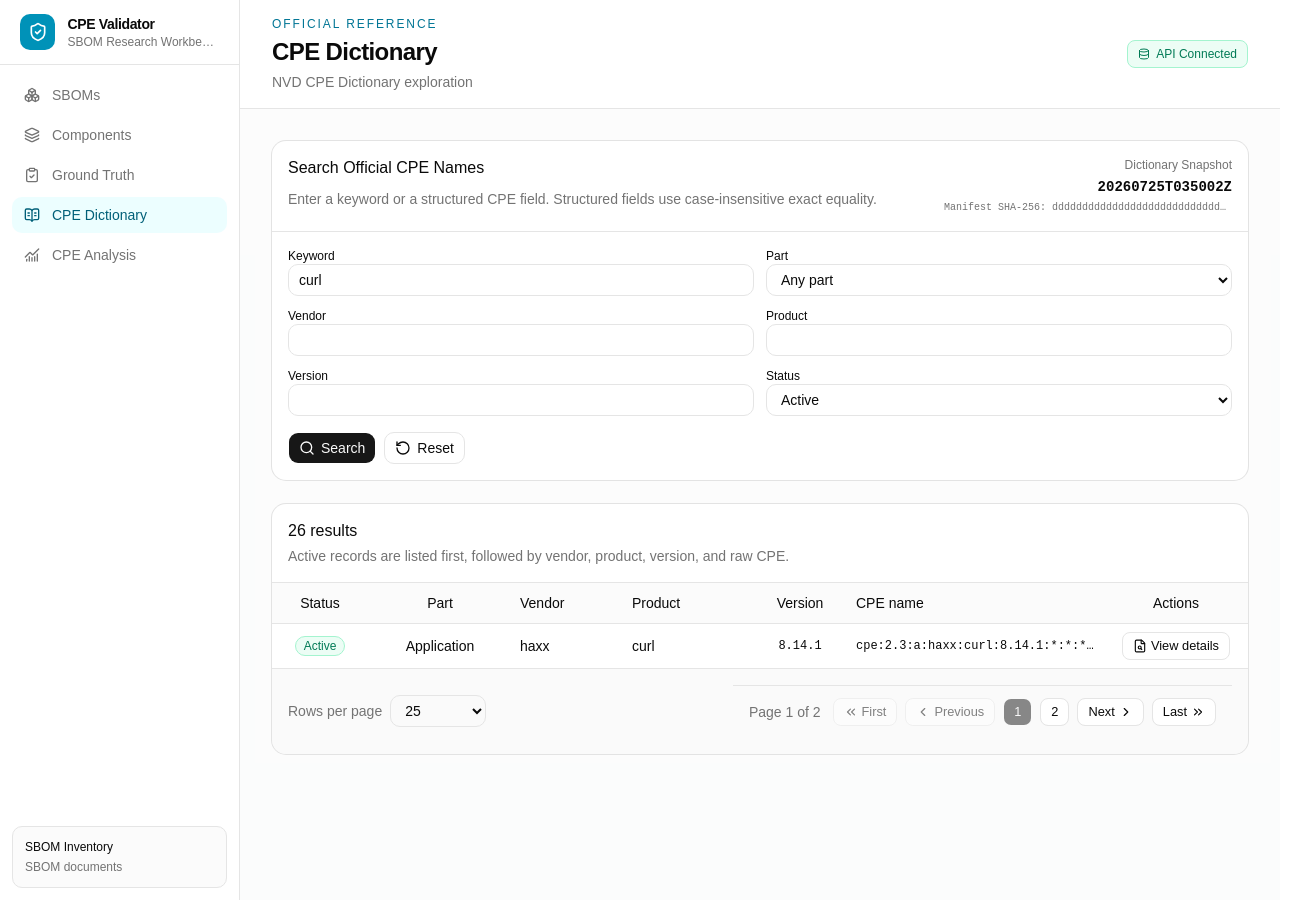
read-only CPE Dictionary › keeps prior results when pagination fails
This screenshot has width=1292, height=900.
Expected: the text "26 results" is shown, [288,522,357,539]
Click the button "Next" at (1111,712), box [1078,698,1144,726]
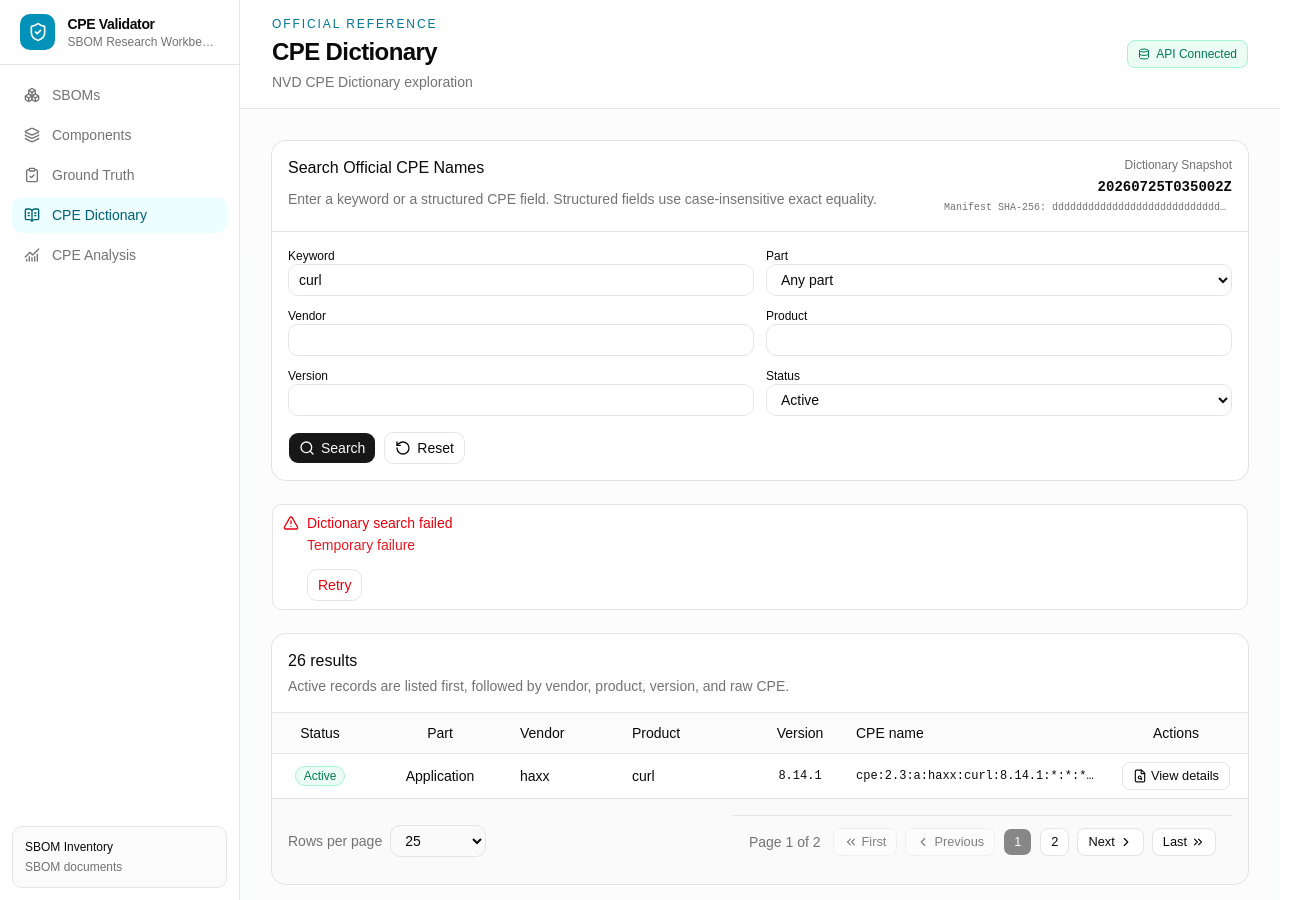
Expected: the text titled "cpe:2.3:a:haxx:curl:8.14.1:*:*:*:*:*:*:*" is shown, [856,768,1096,784]
Expected: the text "Dictionary search failed" is shown, [307,515,452,531]
Expected: the text "Temporary failure" is shown, [307,537,415,553]
